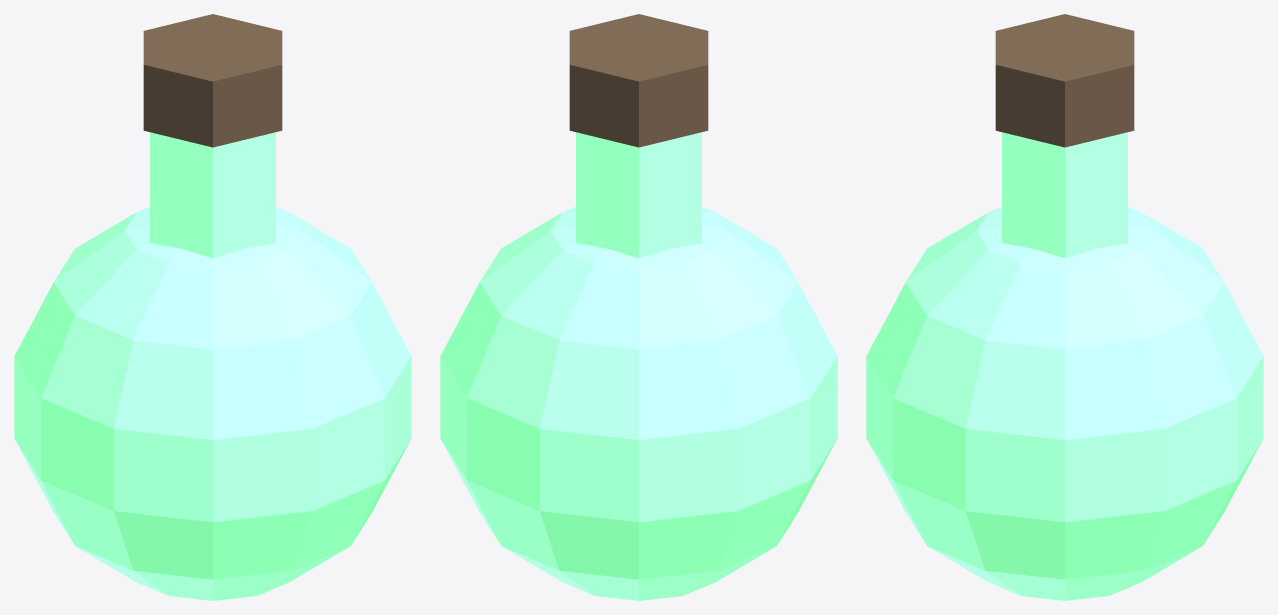
The model's file is potion_green.glb.
The picture shows the model from 3 angles, left to right: view 1: azimuth 30°, elevation 25°; view 2: azimuth 150°, elevation 25°; view 3: azimuth 270°, elevation 25°; orthographic projection.
Parts seen in each view (by area): view 1: potion_green_00, potion_green_02, potion_green_01; view 2: potion_green_00, potion_green_02, potion_green_01; view 3: potion_green_00, potion_green_02, potion_green_01.
Boxes of the visible parts, left/top/right/bottom form: potion_green_00: left=14, top=206, right=411, bottom=600; potion_green_02: left=143, top=14, right=282, bottom=147; potion_green_01: left=150, top=132, right=275, bottom=258; potion_green_00: left=440, top=206, right=837, bottom=600; potion_green_02: left=569, top=14, right=708, bottom=147; potion_green_01: left=576, top=132, right=701, bottom=258; potion_green_00: left=866, top=206, right=1263, bottom=600; potion_green_02: left=995, top=14, right=1134, bottom=147; potion_green_01: left=1002, top=132, right=1127, bottom=258.
Bounding box in the file's own units: 0.273 × 0.405 × 0.273.
